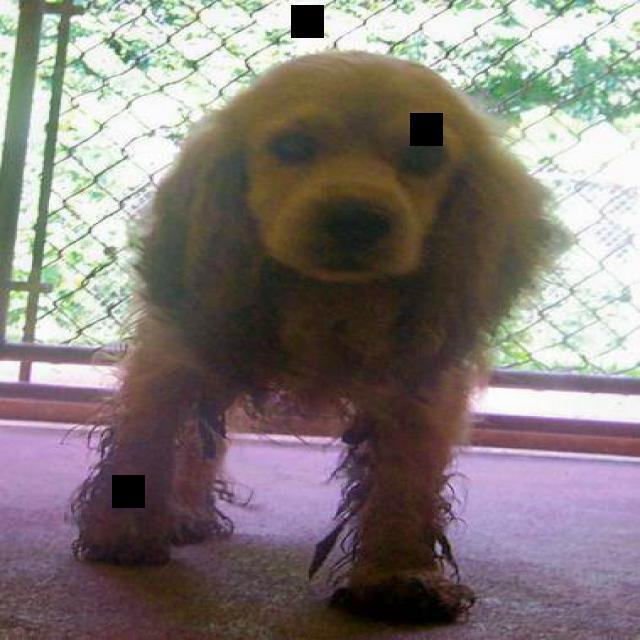adult_dog: (70, 50, 576, 624)
